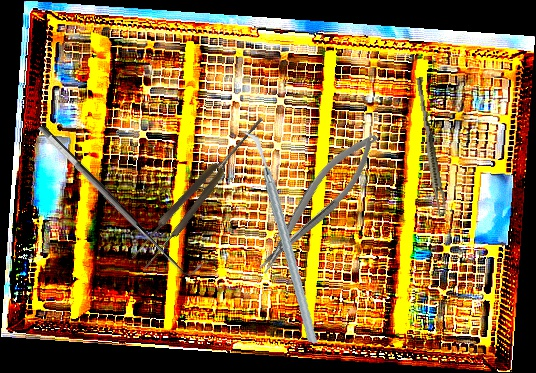Chopper: (213, 130, 347, 344)
Hook Surgical: (35, 112, 205, 285)
Needle Holder: (243, 123, 391, 281)
Tissue Forceps: (128, 111, 272, 272), (411, 76, 450, 218)
